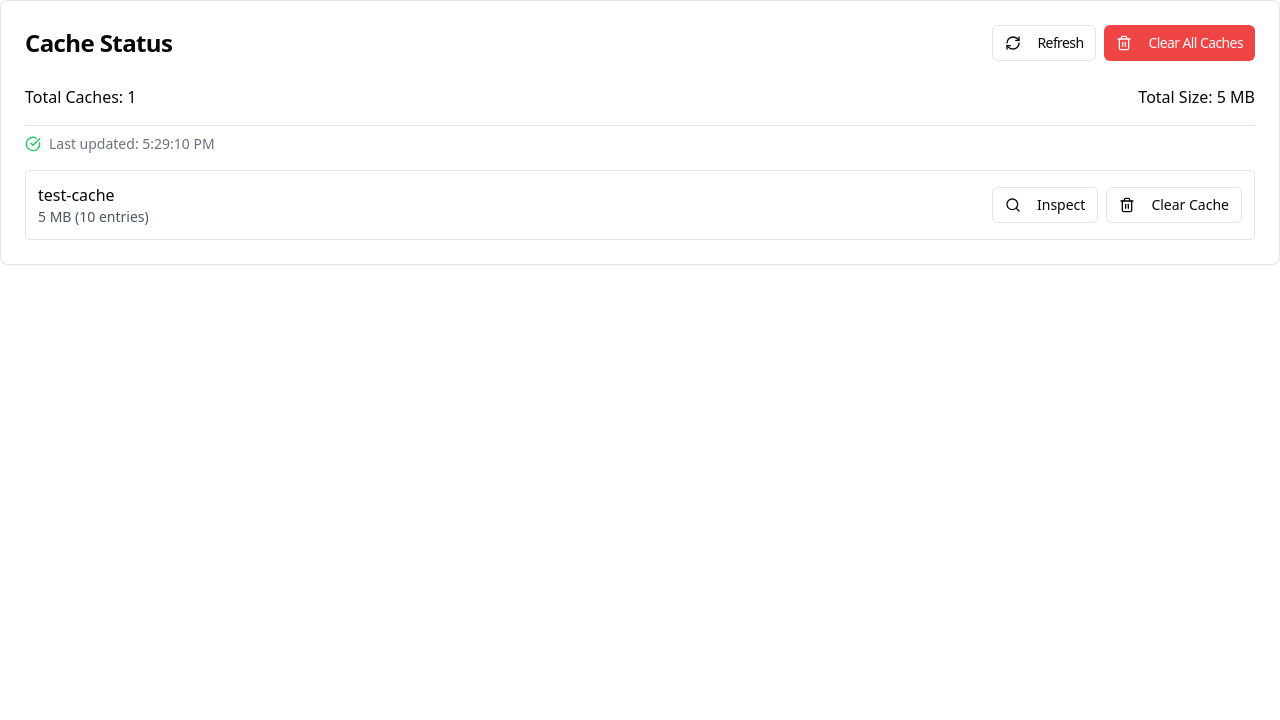
Test: CacheManager Component › Individual Cache Management › should show cache inspection details when inspect button is clicked
The width and height of the screenshot is (1280, 720).
Click the button "Inspect" at (1045, 205), box [992, 187, 1098, 223]
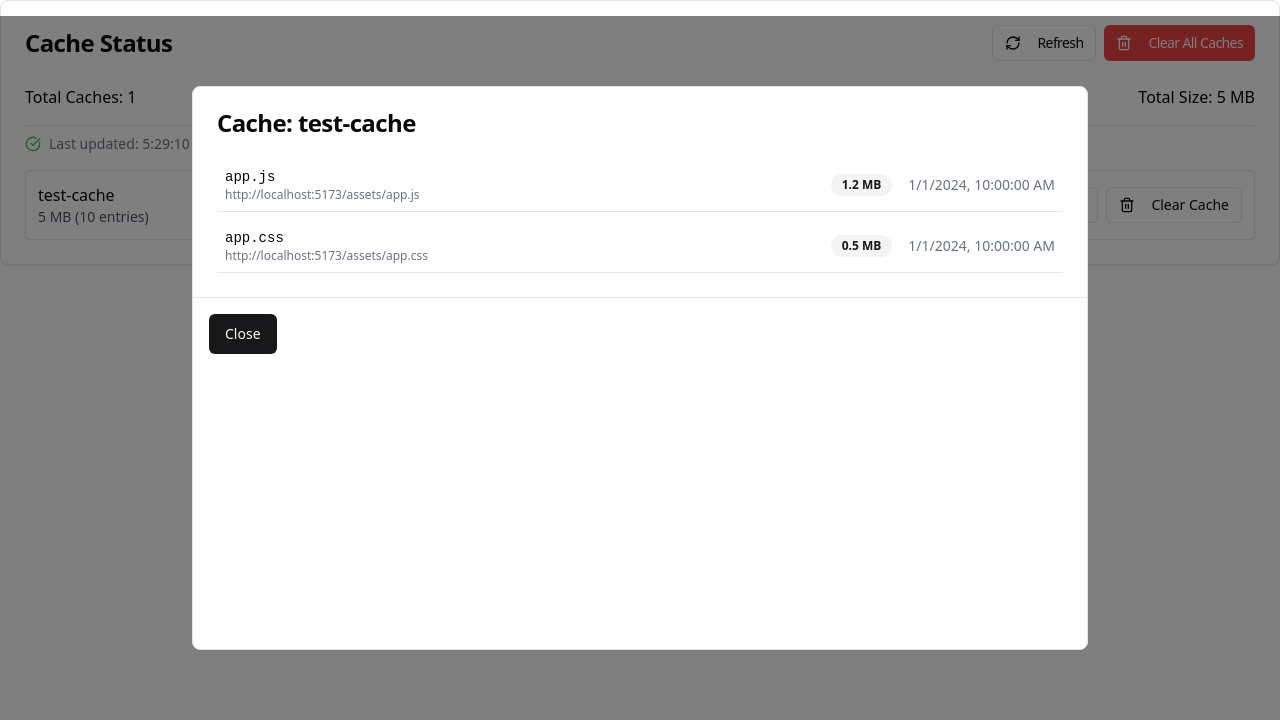
Check: the heading "Cache: test-cache" is shown, box [217, 106, 416, 139]
Check: the text "app.js" is shown, box [225, 169, 275, 185]
Check: the text "1.2 MB" is shown, box [831, 174, 892, 196]
